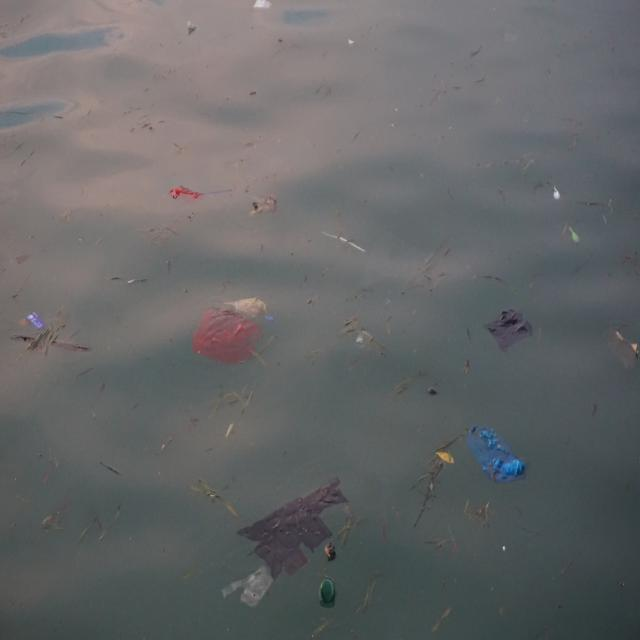Kantong Plastik: (246, 477, 354, 581), (192, 303, 268, 366), (465, 418, 529, 487), (486, 306, 535, 355), (168, 176, 206, 211)
